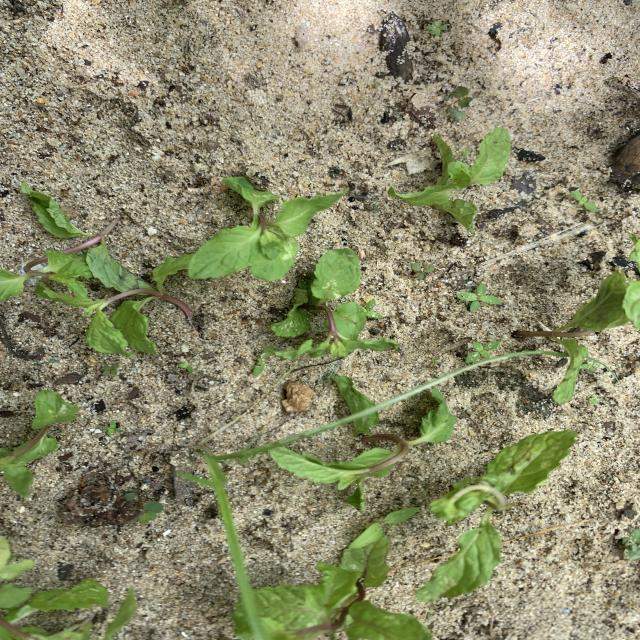crop: (1, 182, 191, 355), (427, 431, 575, 599), (243, 523, 431, 639), (272, 404, 455, 509), (189, 177, 346, 279), (525, 267, 639, 403), (0, 536, 135, 639), (270, 248, 395, 359), (389, 128, 510, 233), (0, 391, 79, 496), (331, 375, 372, 411)
weed: (181, 351, 554, 640), (347, 507, 419, 549), (123, 487, 162, 523), (457, 284, 502, 311), (448, 86, 471, 119), (466, 340, 499, 362), (252, 346, 275, 377), (572, 190, 598, 211), (621, 529, 639, 559), (411, 262, 435, 279), (366, 297, 383, 319), (427, 20, 447, 36), (103, 422, 121, 436), (102, 364, 119, 377), (178, 363, 194, 373)
